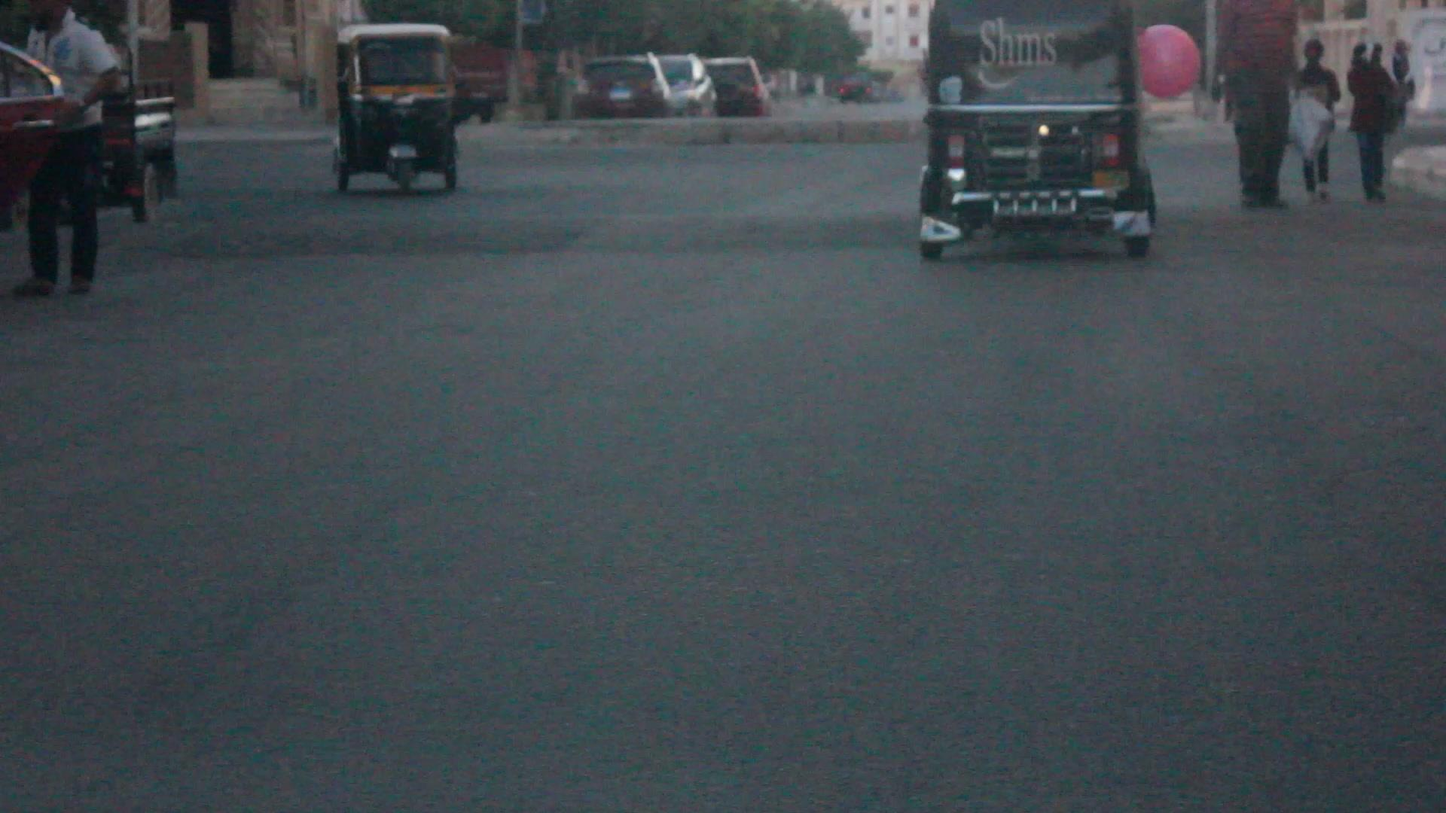Bump: (137, 205, 930, 267), (1165, 199, 1446, 256)
